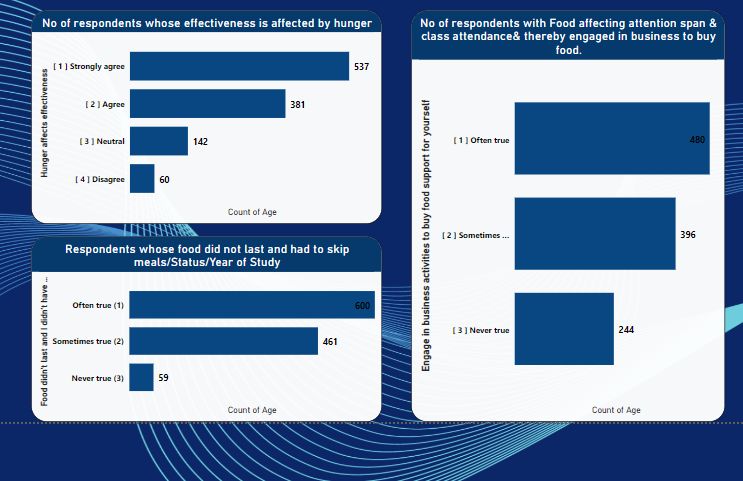

What the dashboard file says about the page in this screenshot:
{"tool":"powerbi","page":{"name":"Page 2","canvas":[1280,720],"ordinal":1},"visuals":[{"type":"barChart","title":"No of respondents whose effectiveness is affected by hunger","fields":{"Category":["SpU - Food bank.Education ","SpU - Food bank.Missed classes because of food","SpU - Food bank.Hunger affects effectiveness"],"Y":["CountNonNull(SpU - Food bank.Age )"]},"box":[75.5,28.5,588.8,359],"z":0},{"type":"barChart","title":"Respondents whose food did not last and had to skip meals/Status/Year of Study","fields":{"Category":["SpU - Food bank.Student status ","SpU - Food bank.Year of study","SpU - Food bank.Food didn't last and I didn't have enough money to get more","SpU - Food bank.Skip meals "],"Y":["CountNonNull(SpU - Food bank.Age )"]},"box":[75.5,407.7,588.8,312],"z":1},{"type":"barChart","title":"No of respondents with Food affecting attention span & class attendance& thereby engaged in business to buy food.","fields":{"Category":["SpU - Food bank.Food affects your class attendance","SpU - Food bank.Food affects your attention span in class","SpU - Food bank.Engage in business activities to buy food support for yourself"],"Y":["CountNonNull(SpU - Food bank.Age )"]},"box":[713,28.5,526.8,691.2],"z":2}]}

Visuals, with their boxes in screenshot pixels (x1, y1, x2, y2):
"No of respondents whose effectiveness is affected by hunger" barChart: rect(31, 9, 381, 222)
"Respondents whose food did not last and had to skip meals/Status/Year of Study" barChart: rect(31, 234, 381, 419)
"No of respondents with Food affecting attention span & class attendance& thereby engaged in business to buy food." barChart: rect(410, 9, 722, 419)
